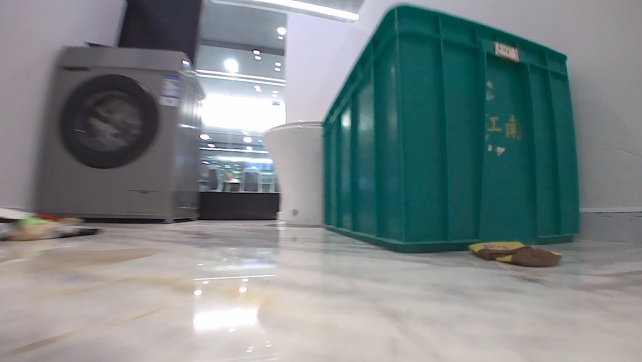socks: (462, 239, 566, 273)
toilet: (260, 117, 326, 226)
washing_machine: (31, 43, 204, 224)
